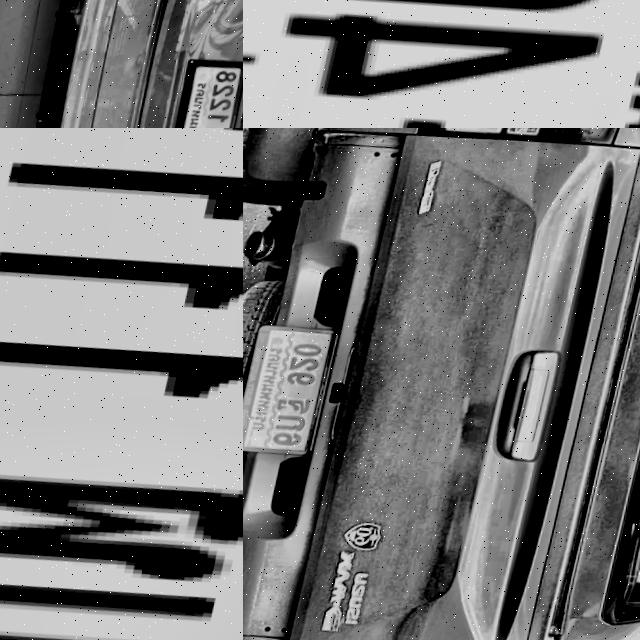license-plate: (0, 128, 243, 640), (243, 0, 640, 128), (243, 319, 347, 460), (161, 54, 243, 128)
